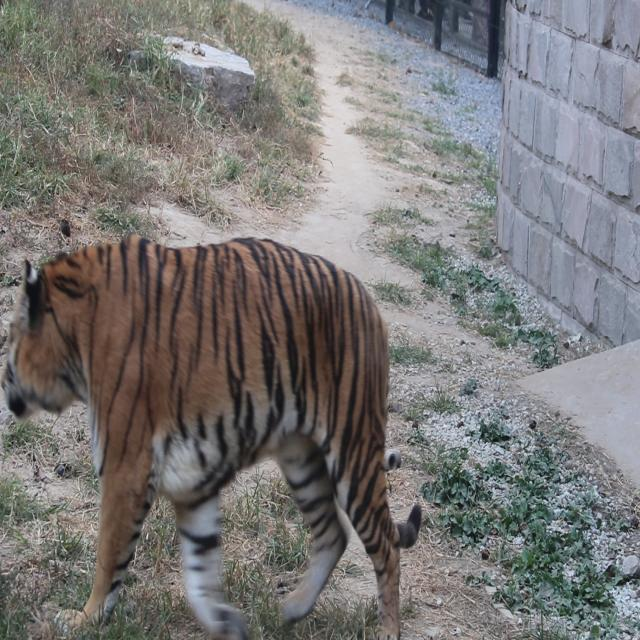Tiger: (3, 213, 426, 640)
